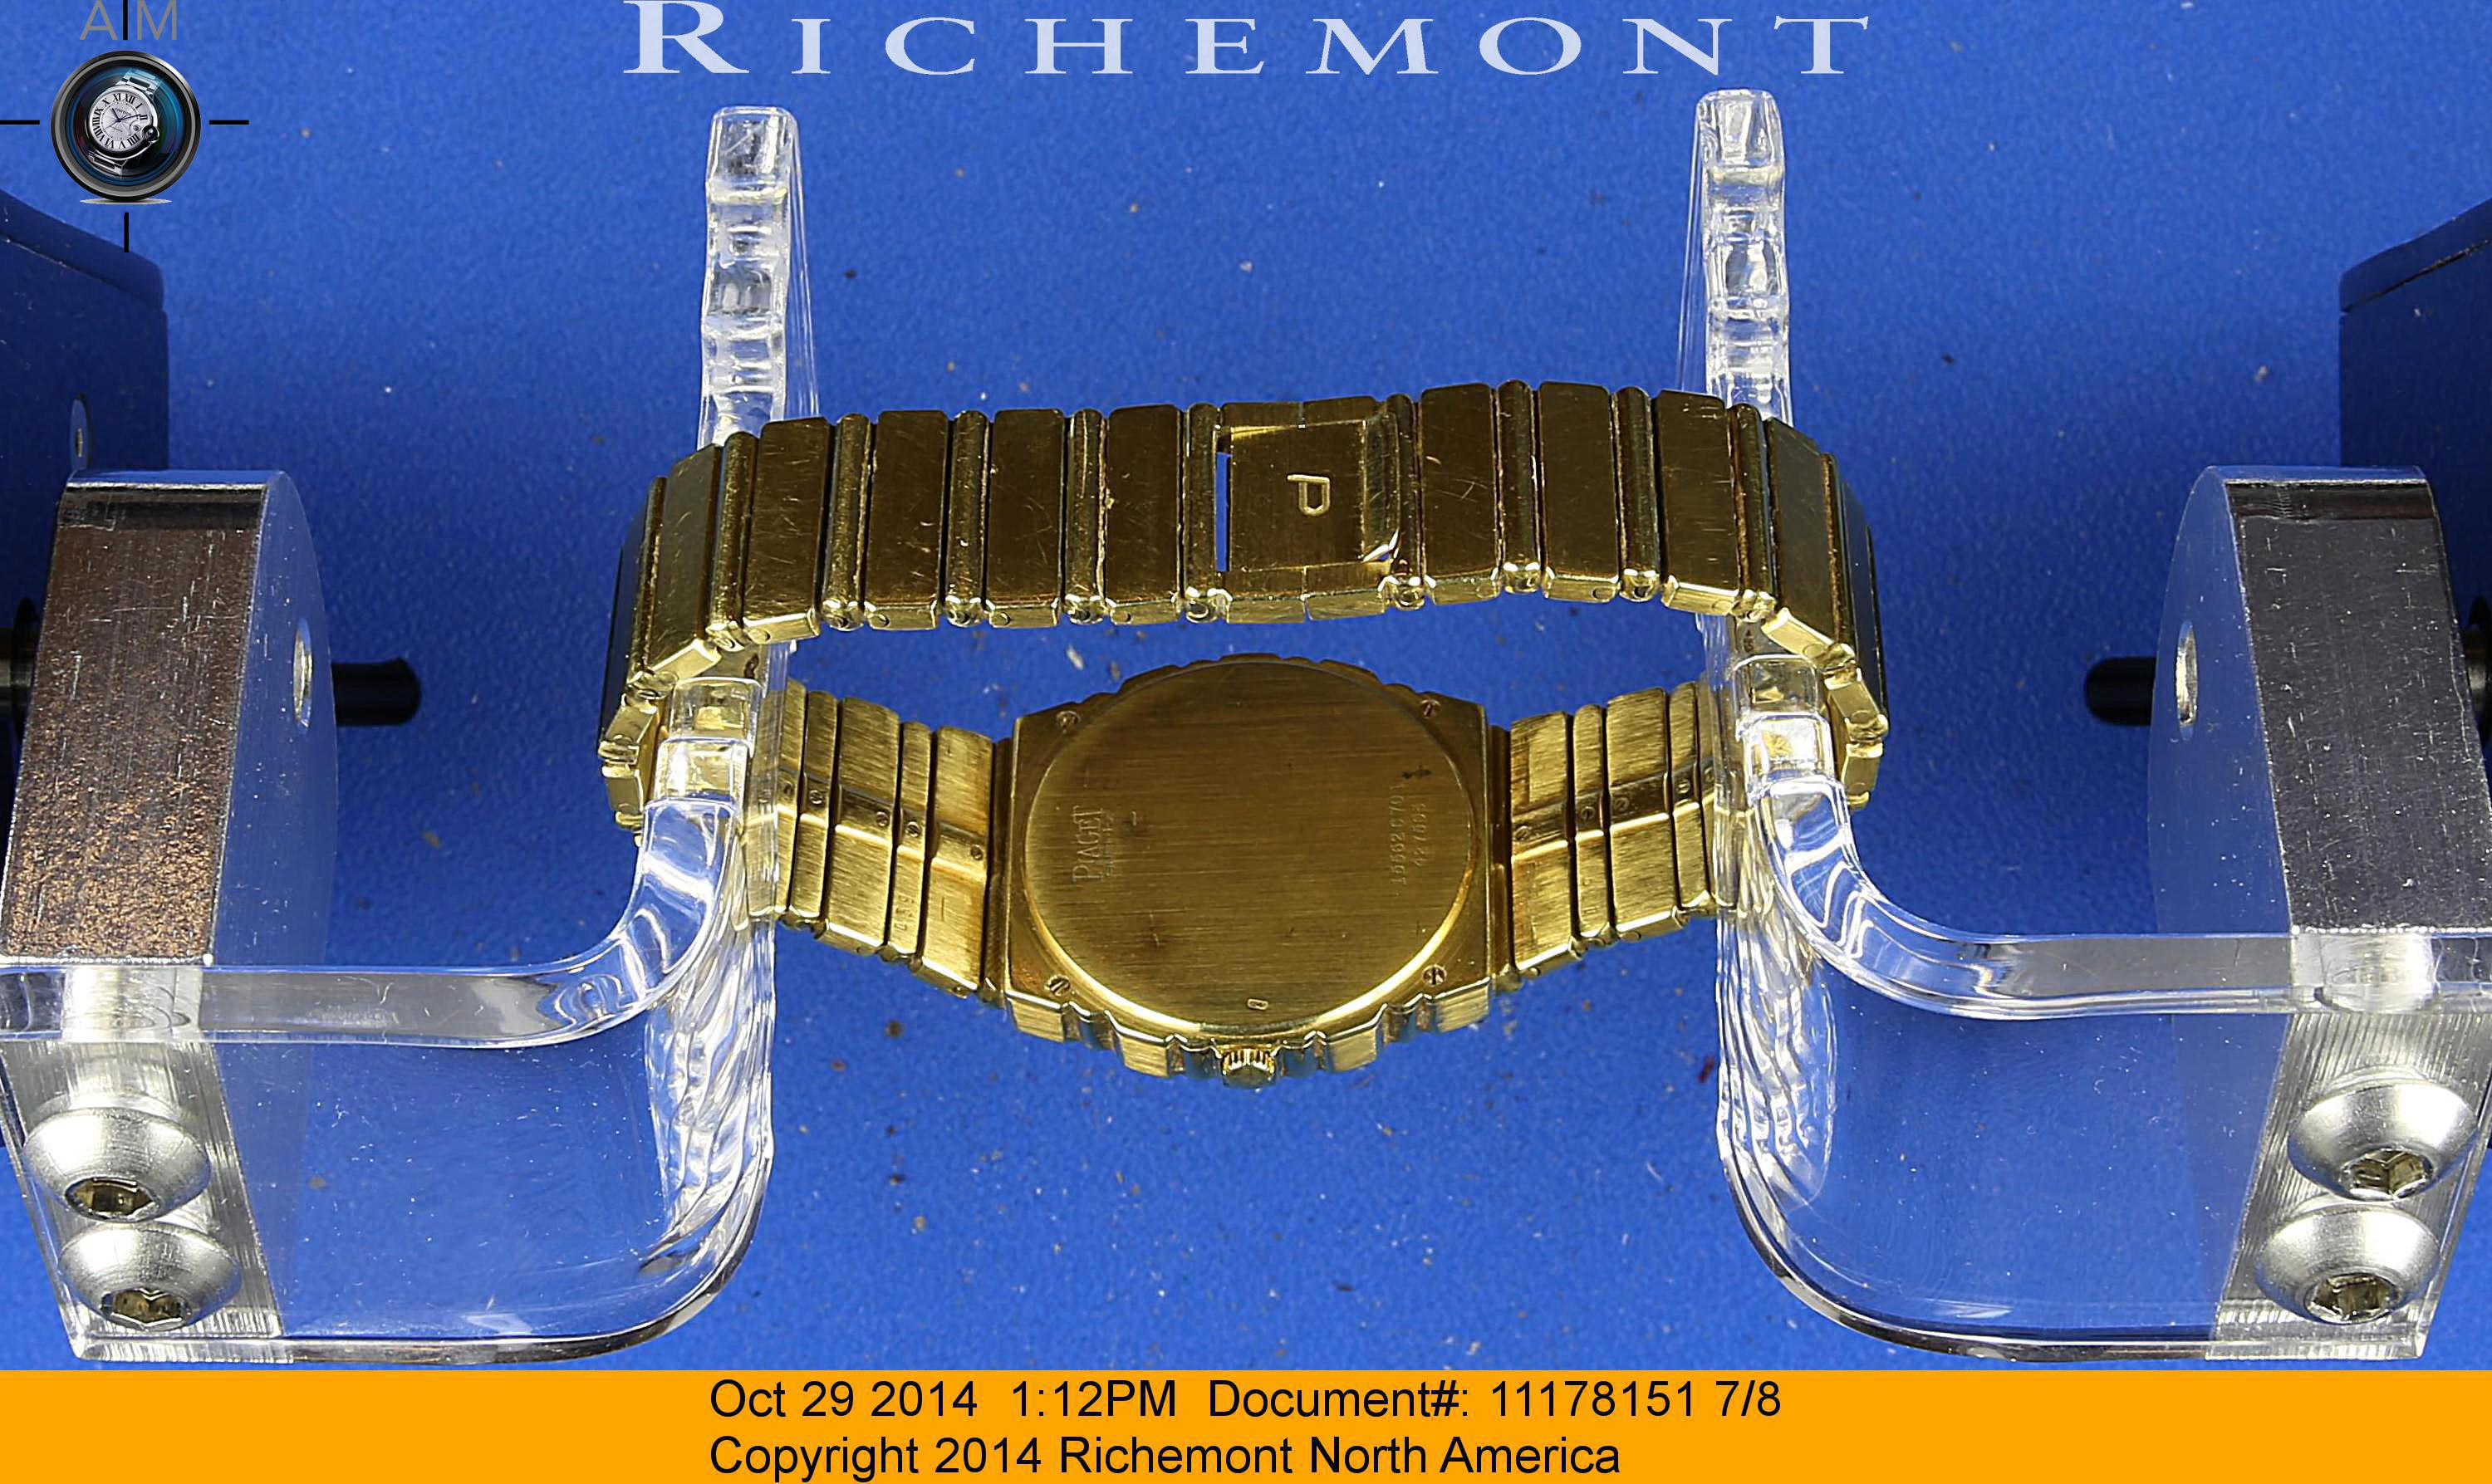Watch BackCase: (982, 634, 1514, 1109)
